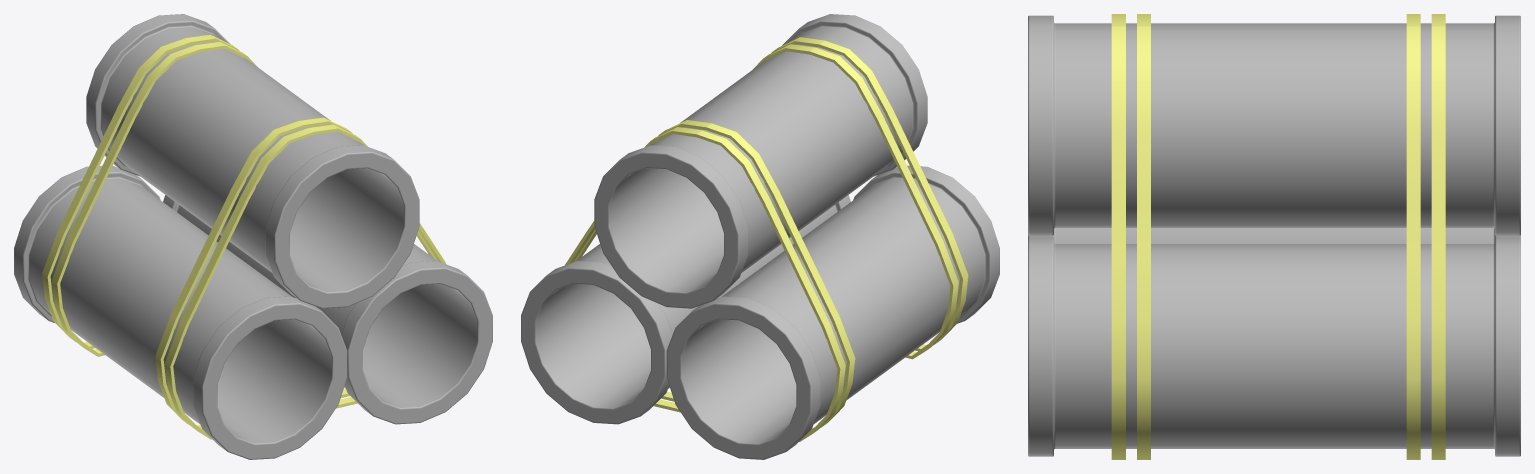
The model's file is ConcreteTube.fbx.
3 renders of one model, left to right at view 1: azimuth 30°, elevation 25°; view 2: azimuth 150°, elevation 25°; view 3: azimuth 270°, elevation 25°, orthographic. The views are drawn at different scales.
Visible parts, largest first — view 1: Cylinder.060, Cylinder.063, Cylinder.061; view 2: Cylinder.060, Cylinder.061, Cylinder.063; view 3: Cylinder.060, Cylinder.061, Cylinder.063.
Part boxes in pixels (x1=…): Cylinder.060: x1=14, y1=14, x2=492, y2=459; Cylinder.063: x1=155, y1=117, x2=446, y2=439; Cylinder.061: x1=42, y1=34, x2=257, y2=356; Cylinder.060: x1=521, y1=14, x2=999, y2=459; Cylinder.061: x1=565, y1=120, x2=855, y2=441; Cylinder.063: x1=753, y1=37, x2=968, y2=359; Cylinder.060: x1=1028, y1=15, x2=1520, y2=456; Cylinder.061: x1=1406, y1=14, x2=1445, y2=459; Cylinder.063: x1=1111, y1=14, x2=1150, y2=459.
Size of the model in its own units: 625 by 590 by 704.
